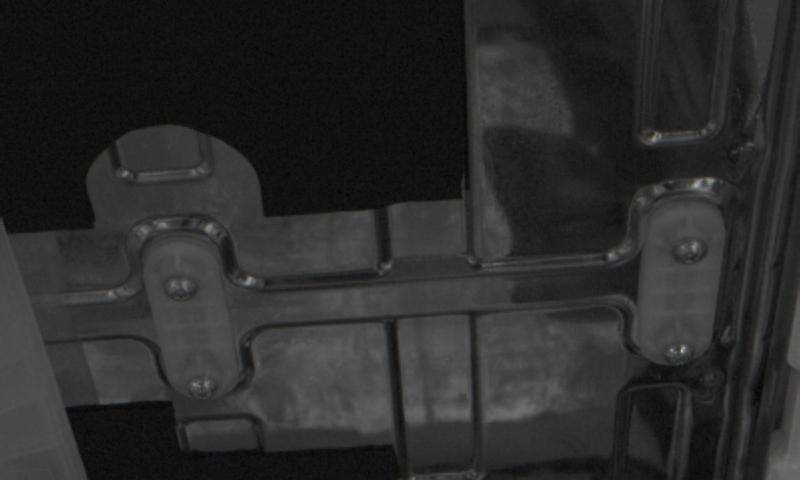vida-ok: (661, 227, 708, 273), (153, 266, 203, 308), (179, 369, 227, 409), (657, 333, 705, 371)
